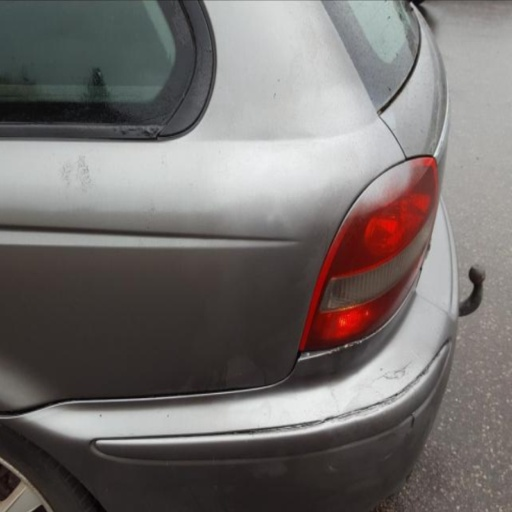dent: (375, 357, 414, 381)
rust: (243, 356, 433, 432)
